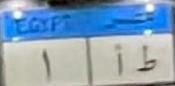1: (38, 49, 60, 81)
Taa: (137, 43, 158, 74)
alif: (113, 42, 127, 76)
